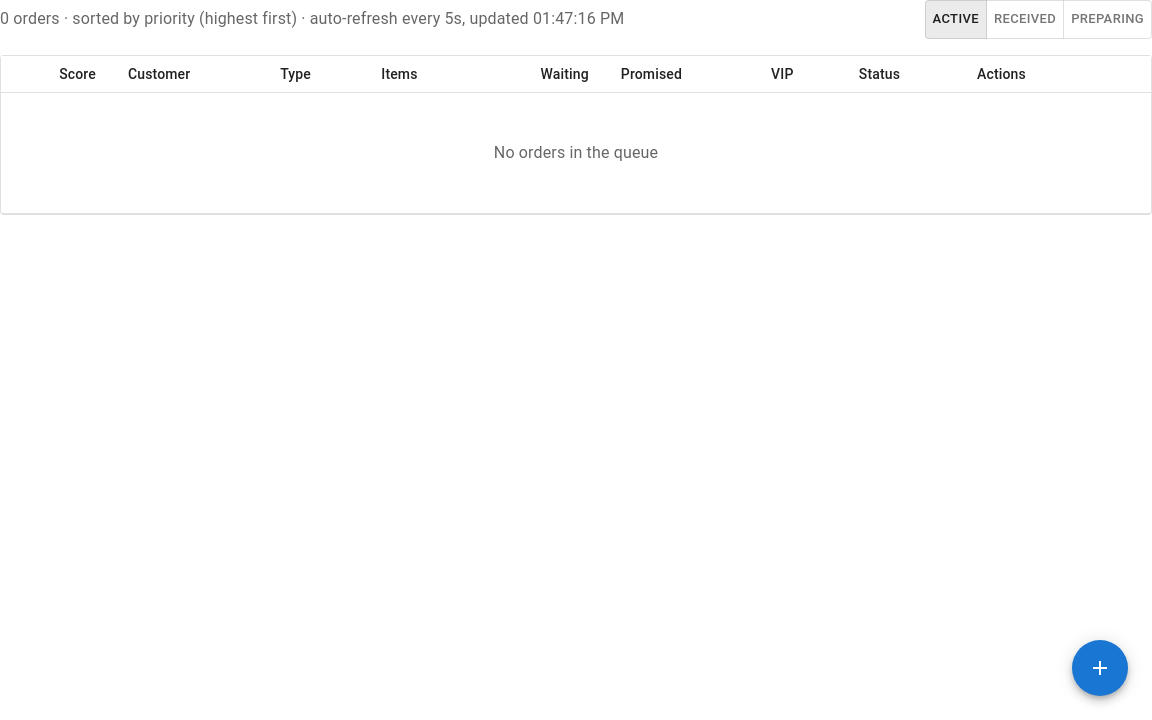
Test: KitchenDisplay › the + button opens the New order dialog
Click the button named "New order". click: point(1100, 668)
box: [1072,640,1128,696]
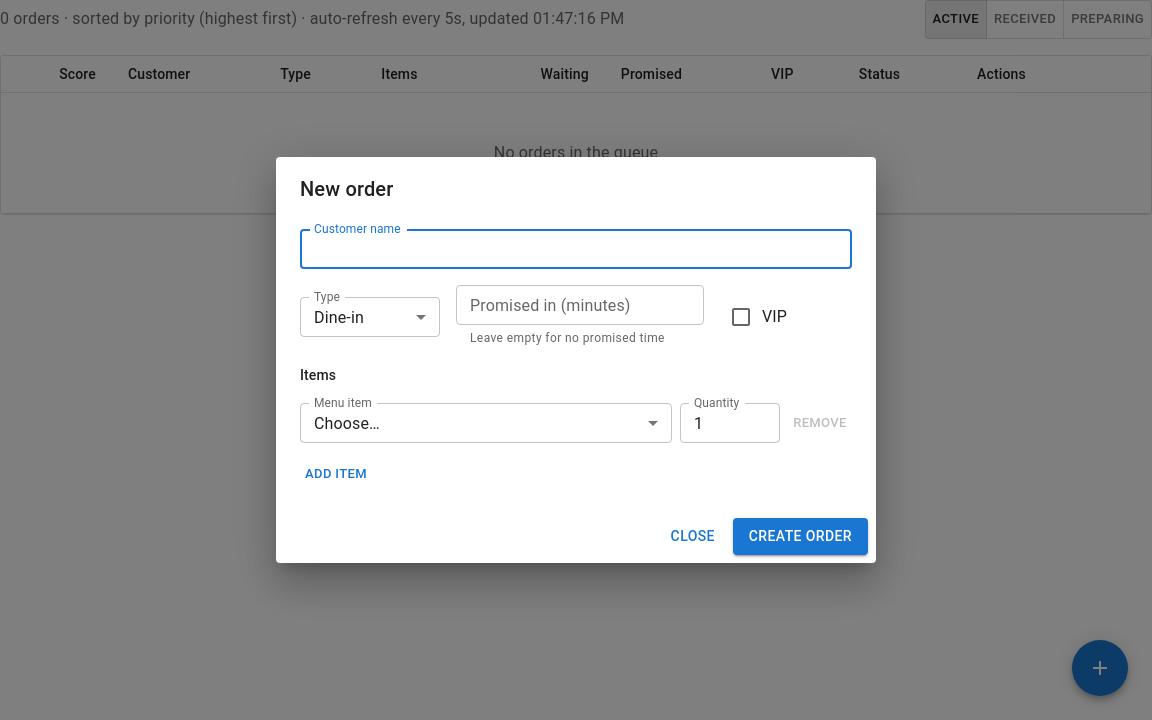
Check: the dialog "New order" is shown, box [276,157,876,562]
